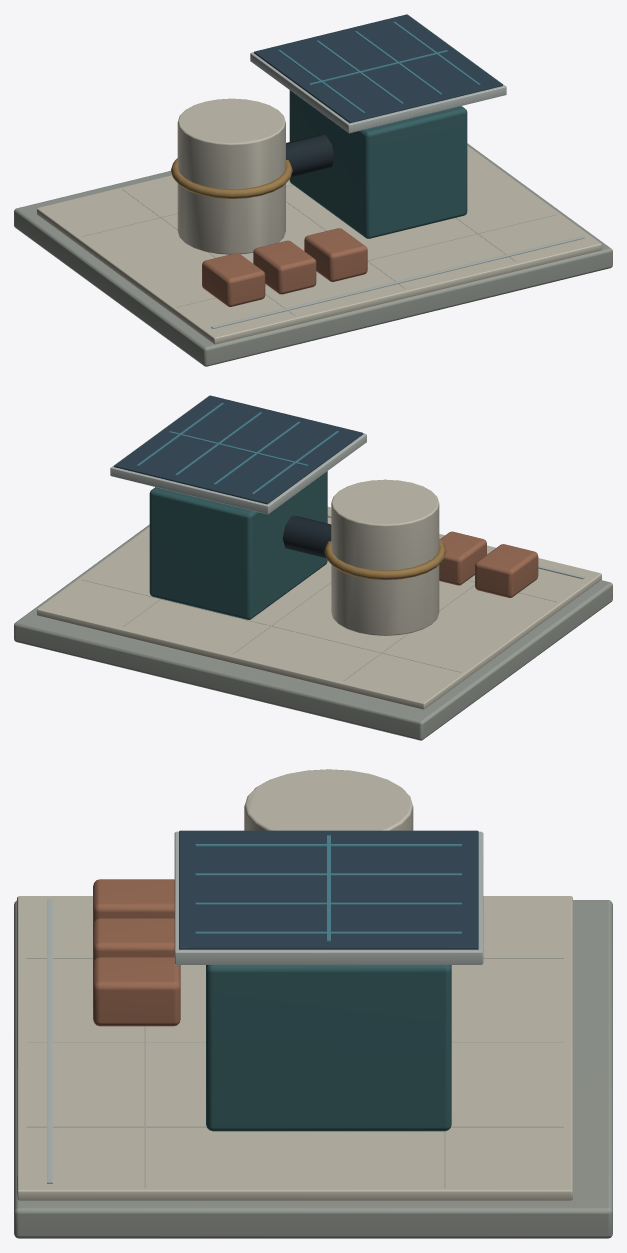
File: idea-c29fdc3f.glb
The picture shows the model from 3 angles, top to bottom: view 1: azimuth 30°, elevation 25°; view 2: azimuth 150°, elevation 25°; view 3: azimuth 270°, elevation 25°; orthographic projection. The views are drawn at different scales.
Parts seen in each view (by area): view 1: Karmic Solar Plastic Recycler; view 2: Karmic Solar Plastic Recycler; view 3: Karmic Solar Plastic Recycler.
Part boxes in pixels (x1=…): Karmic Solar Plastic Recycler: x1=14, y1=14, x2=612, y2=366; Karmic Solar Plastic Recycler: x1=14, y1=395, x2=612, y2=740; Karmic Solar Plastic Recycler: x1=14, y1=769, x2=612, y2=1238.
Size of the model in its own units: 4.8 by 1.79 by 3.9.
